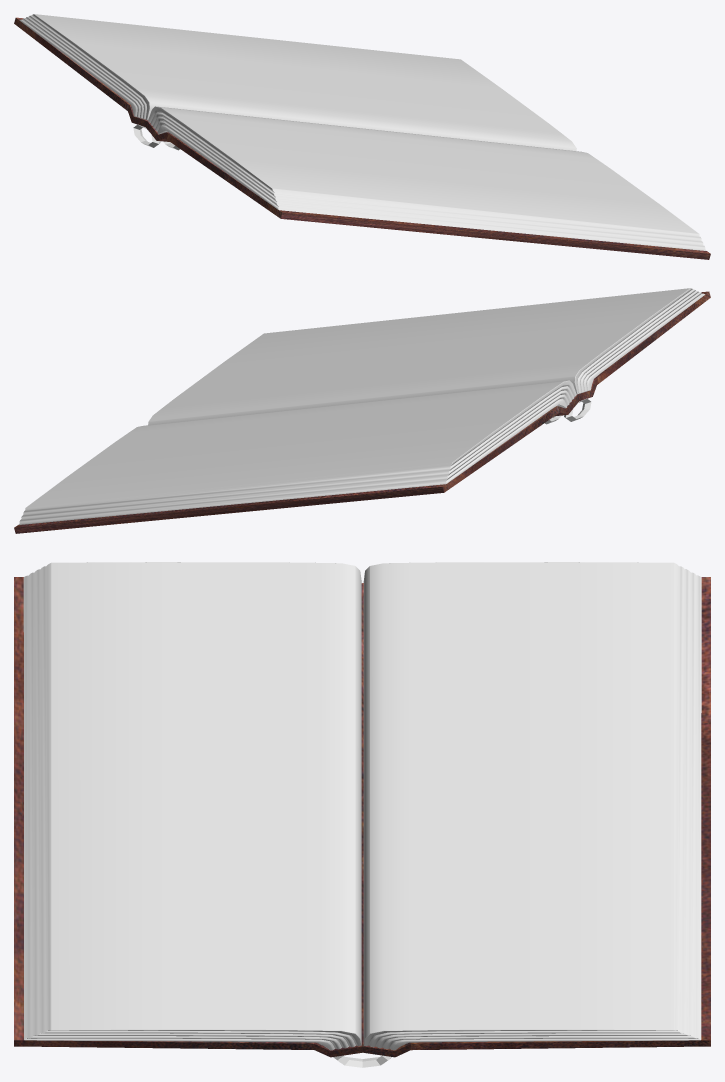
Rendered from spellbook.fbx.
3 views of the same model, one above another, from view 1: azimuth 30°, elevation 25°; view 2: azimuth 150°, elevation 25°; view 3: azimuth 270°, elevation 25° (orthographic). The views are drawn at different scales.
Visible parts, largest first — view 1: pages.001, pages; view 2: pages.001, pages; view 3: pages.001, pages.
Part boxes in pixels (x1=…): pages.001: x1=19, y1=14, x2=706, y2=250; pages: x1=14, y1=17, x2=710, y2=259; pages.001: x1=18, y1=288, x2=705, y2=524; pages: x1=14, y1=291, x2=710, y2=533; pages.001: x1=23, y1=562, x2=701, y2=1050; pages: x1=14, y1=577, x2=710, y2=1057.
Bounding box in the file's own units: 195 × 78.29 × 205.
